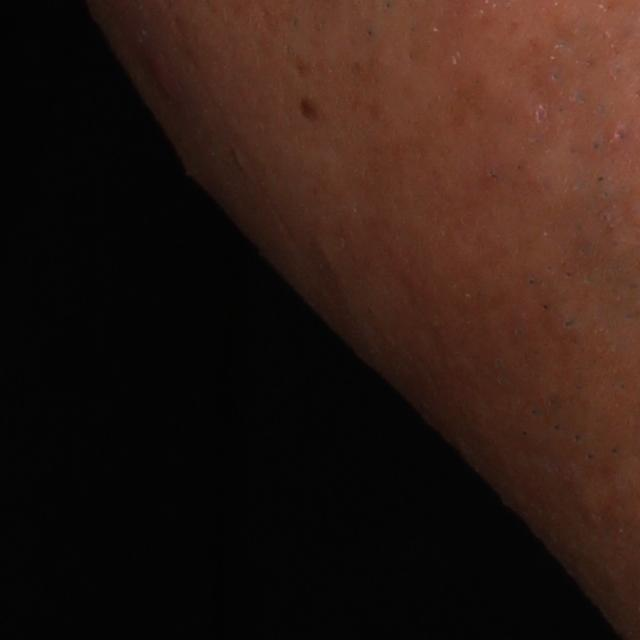nevus: (293, 93, 317, 115)
papule: (146, 57, 192, 112)
